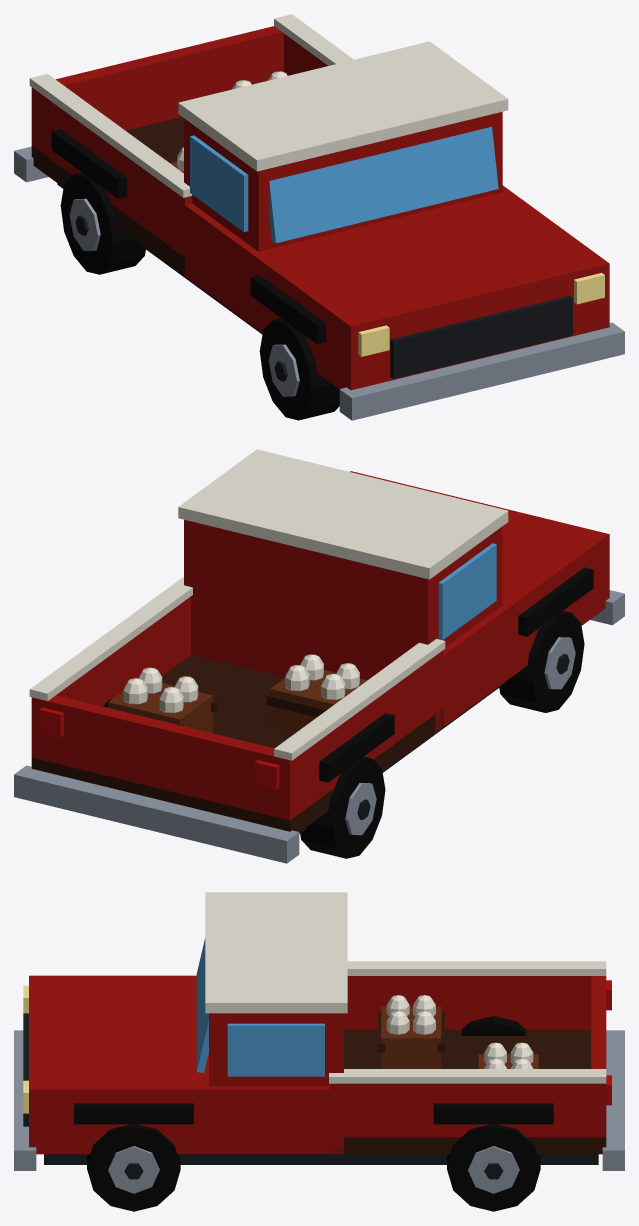
The model's file is FarmPickup.obj.
3 views of the same model, one above another, from view 1: azimuth 30°, elevation 25°; view 2: azimuth 150°, elevation 25°; view 3: azimuth 270°, elevation 25° (orthographic). The views are drawn at different scales.
Visible parts, largest first — view 1: FarmPickup; view 2: FarmPickup; view 3: FarmPickup.
Boxes of the visible parts, left/top/right/bottom form: FarmPickup: left=14, top=14, right=624, bottom=420; FarmPickup: left=14, top=449, right=624, bottom=863; FarmPickup: left=14, top=892, right=624, bottom=1211.
Size of the model in its own units: 2.22 by 1.68 by 4.56.
